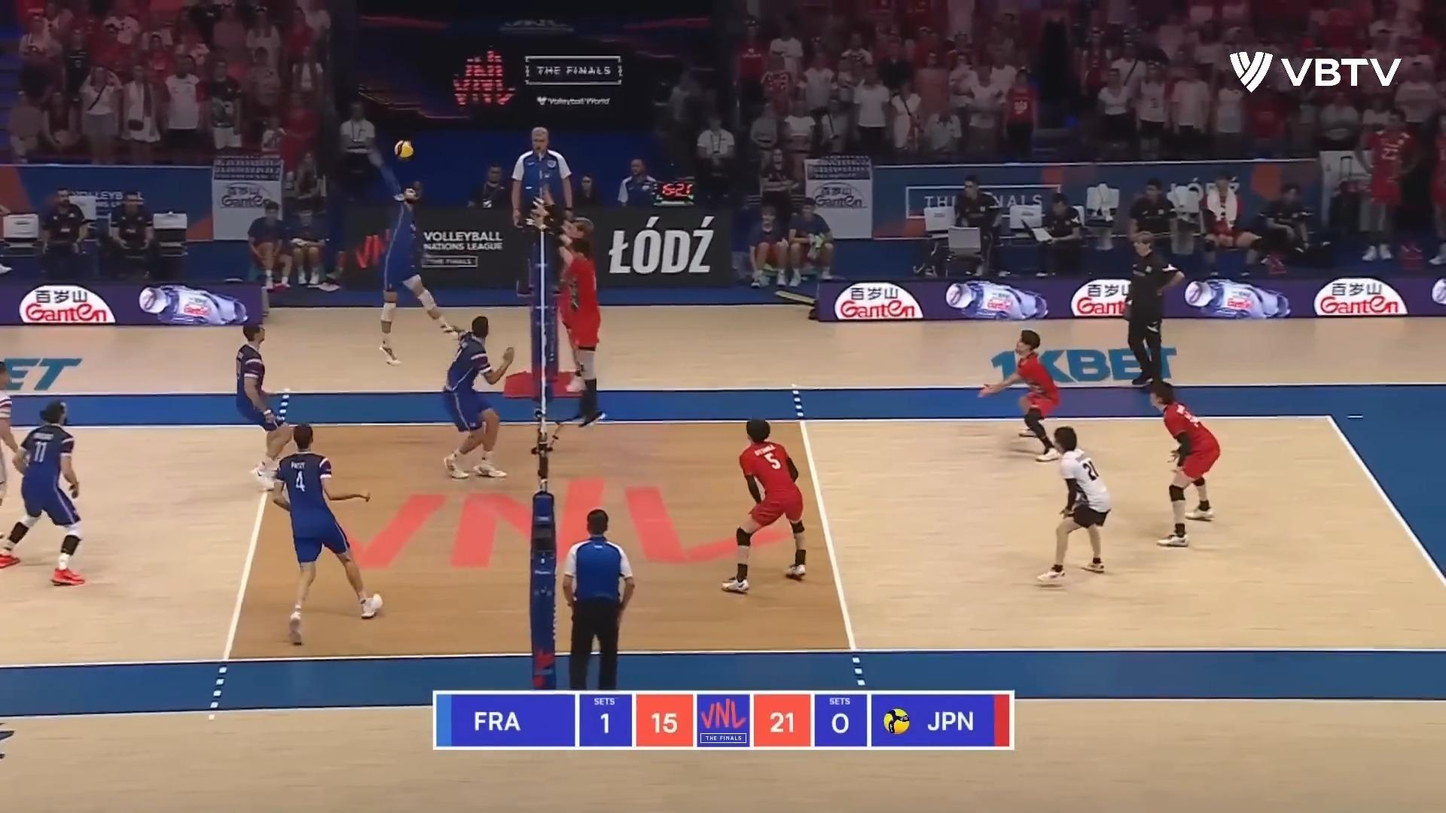ball: (394, 140, 414, 159)
